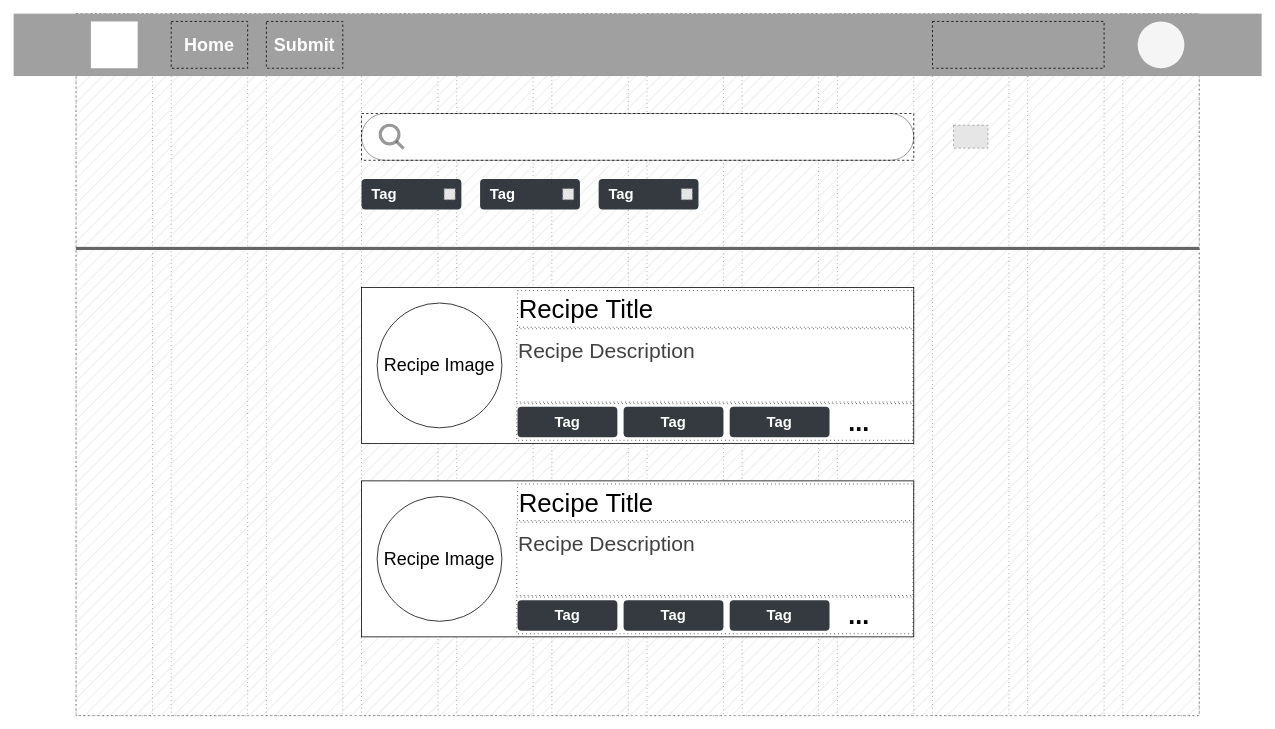
Image size: 1275x729. Some labels were removed from this diagram. Grey dashed boxes stand in for pictures. Here are the shapes that lost their labels. From the top down, the box of each, then its label:
(90, 21, 137, 68): Icon
(932, 21, 1104, 68): Welcome, Username
(1137, 21, 1184, 68): User Icon
(361, 113, 914, 160): Search Recipes
